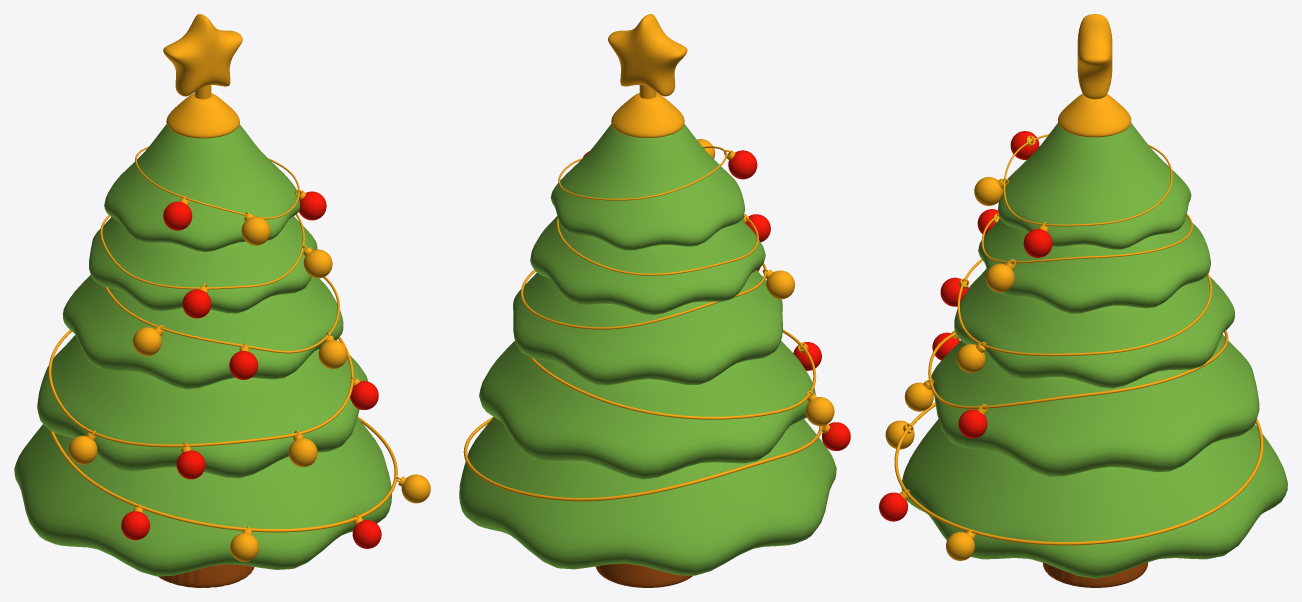
File: Tree2.fbx
The picture shows the model from 3 angles, left to right: view 1: azimuth 30°, elevation 25°; view 2: azimuth 150°, elevation 25°; view 3: azimuth 270°, elevation 25°; orthographic projection.
Parts seen in each view (by area): view 1: Circle, Circle.001, Circle.002, Circle.004, Circle.003, Star, Circle.021, BézierCircle, BézierCircle.001, Cylinder, BézierCircle.002, BézierCircle.003 (+17 smaller); view 2: Circle, Circle.001, Circle.002, Circle.004, Circle.003, Star, Circle.021, BézierCircle, Cylinder, BézierCircle.001, BézierCircle.002, BézierCircle.003 (+5 smaller); view 3: Circle, Circle.001, Circle.002, Circle.004, Circle.003, Star, Circle.021, BézierCircle, BézierCircle.001, Cylinder, BézierCircle.002, BézierCircle.004 (+12 smaller).
Part boxes in pixels (left/top/right/bottom): Circle: left=14, top=418, right=391, bottom=576; Circle.001: left=37, top=335, right=368, bottom=478; Circle.002: left=62, top=275, right=343, bottom=389; Circle.004: left=104, top=124, right=299, bottom=252; Circle.003: left=89, top=216, right=317, bottom=313; Star: left=163, top=14, right=242, bottom=96; Circle.021: left=166, top=93, right=239, bottom=138; BézierCircle: left=49, top=416, right=397, bottom=532; BézierCircle.001: left=48, top=330, right=353, bottom=447; Cylinder: left=158, top=564, right=254, bottom=587; BézierCircle.002: left=104, top=276, right=339, bottom=353; BézierCircle.003: left=100, top=214, right=304, bottom=289; Circle: left=459, top=417, right=836, bottom=575; Circle.001: left=479, top=341, right=815, bottom=479; Circle.002: left=513, top=270, right=782, bottom=385; Circle.004: left=550, top=124, right=744, bottom=250; Circle.003: left=530, top=216, right=765, bottom=315; Star: left=608, top=14, right=687, bottom=96; Circle.021: left=611, top=93, right=684, bottom=137; BézierCircle: left=463, top=416, right=822, bottom=501; Cylinder: left=595, top=563, right=692, bottom=587; BézierCircle.001: left=528, top=329, right=816, bottom=419; BézierCircle.002: left=520, top=263, right=766, bottom=329; BézierCircle.003: left=557, top=217, right=758, bottom=275; Circle: left=901, top=419, right=1287, bottom=578; Circle.001: left=931, top=334, right=1259, bottom=476; Circle.002: left=954, top=269, right=1234, bottom=388; Circle.004: left=998, top=123, right=1191, bottom=249; Circle.003: left=978, top=216, right=1210, bottom=313; Star: left=1077, top=14, right=1112, bottom=99; Circle.021: left=1058, top=93, right=1131, bottom=137; BézierCircle: left=894, top=402, right=1263, bottom=545; BézierCircle.001: left=928, top=330, right=1228, bottom=409; Cylinder: left=1043, top=562, right=1148, bottom=587; BézierCircle.002: left=957, top=259, right=1211, bottom=356; BézierCircle.004: left=1003, top=134, right=1172, bottom=226.
Bounding box in the file's own units: 192 × 303 × 203.
